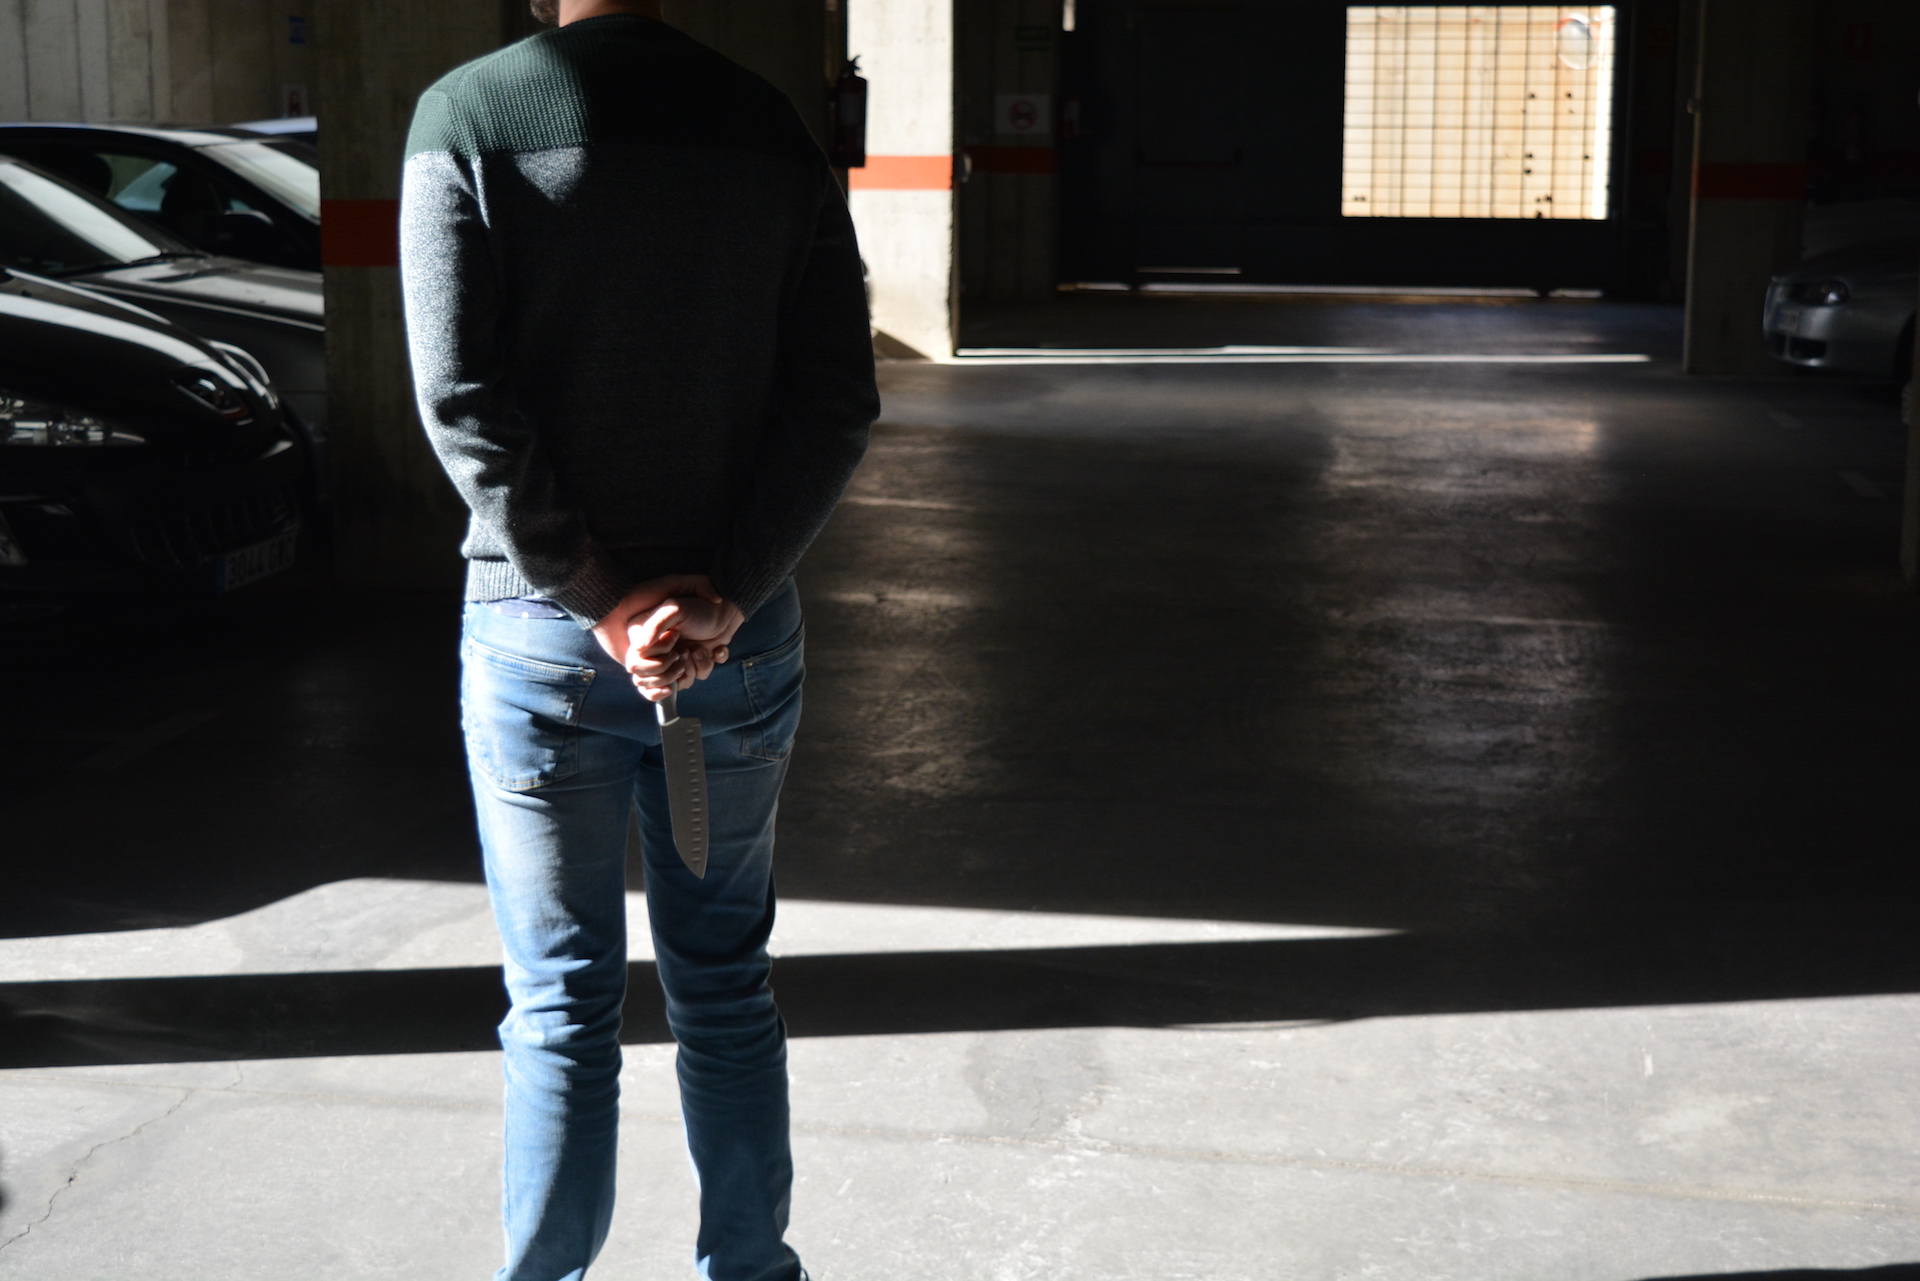knife: (639, 671, 719, 891)
